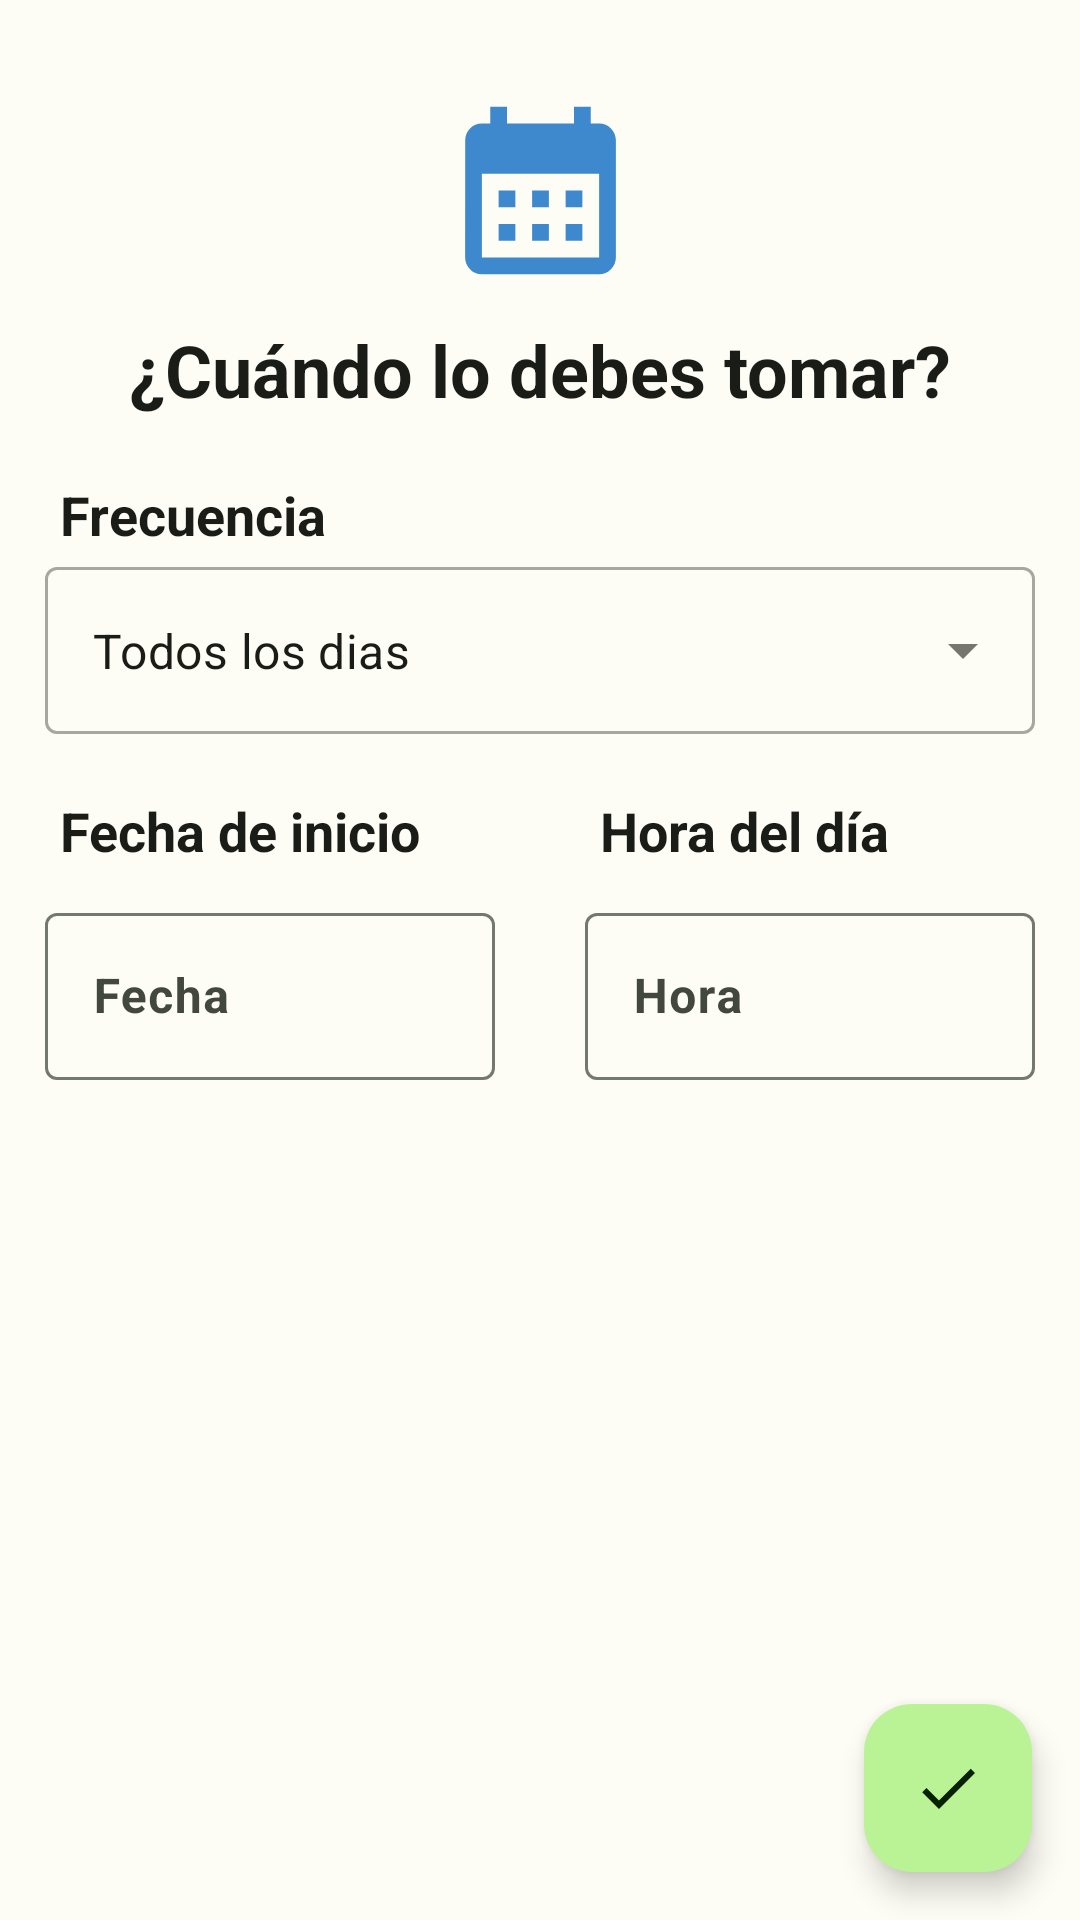

Where to tap for icons on this 1080×1920 app screen, as (x=x, y=y):
calendar: (x=540, y=190)
check: (x=948, y=1788)
